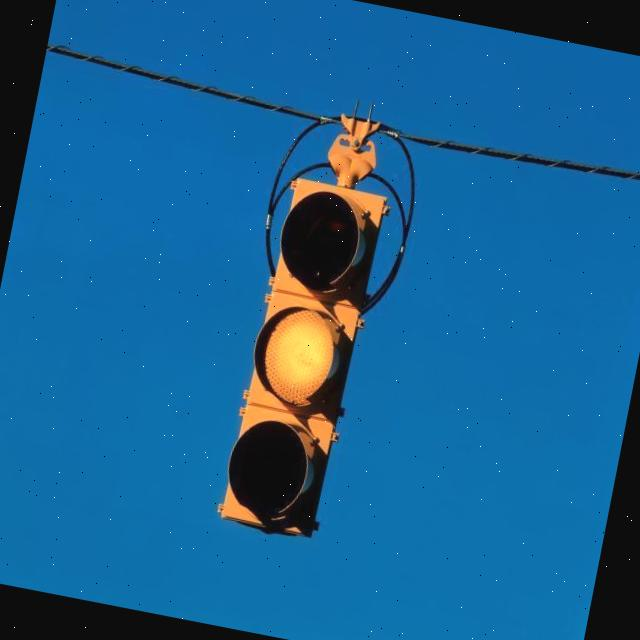yellow_light: (216, 170, 392, 550)
